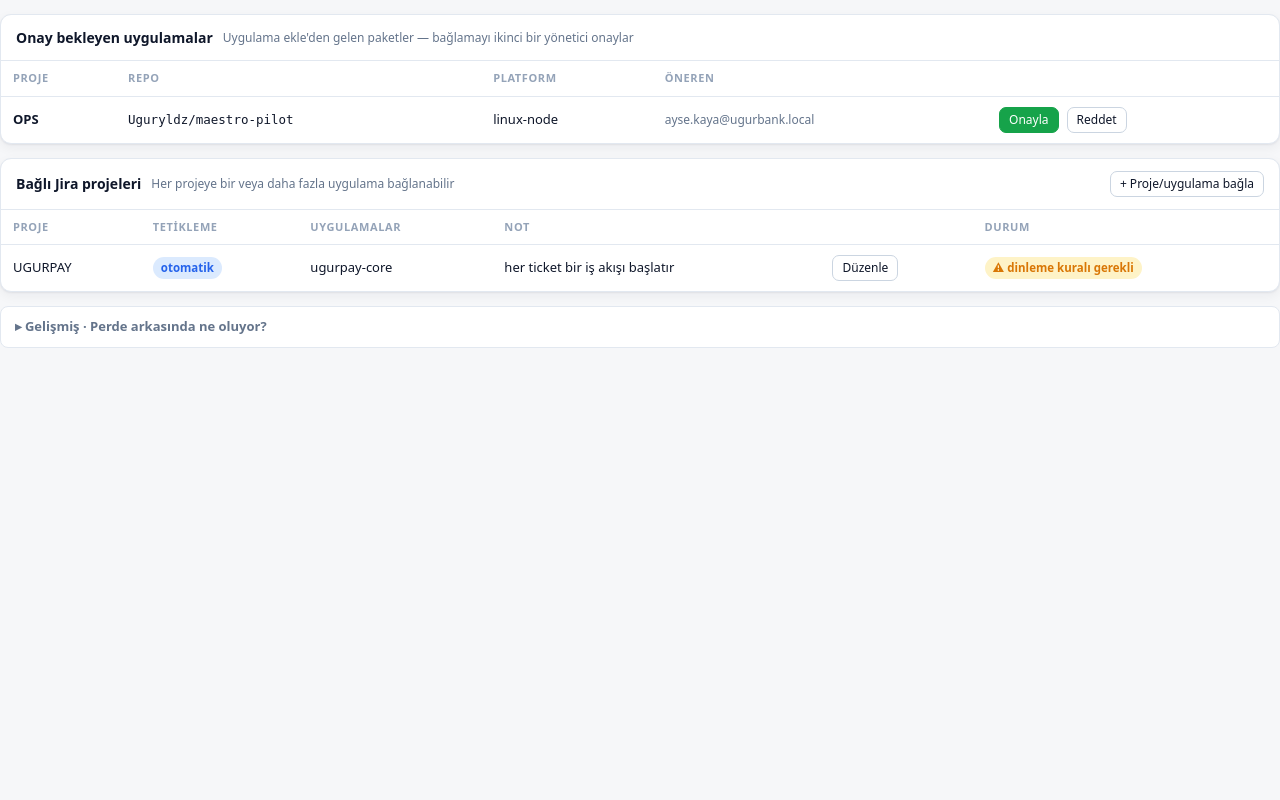
Test case: routing screen › shows a submitted onboarding package and approves it into a binding
expect the text "Uguryldz/maestro-pilot" is shown: met, box top-left (128, 112), bottom-right (294, 127)
expect the text "ayse.kaya@ugurbank.local" is shown: met, box top-left (665, 111), bottom-right (814, 128)
Click the button "Onayla": (1029, 120) top-left (999, 106), bottom-right (1059, 132)
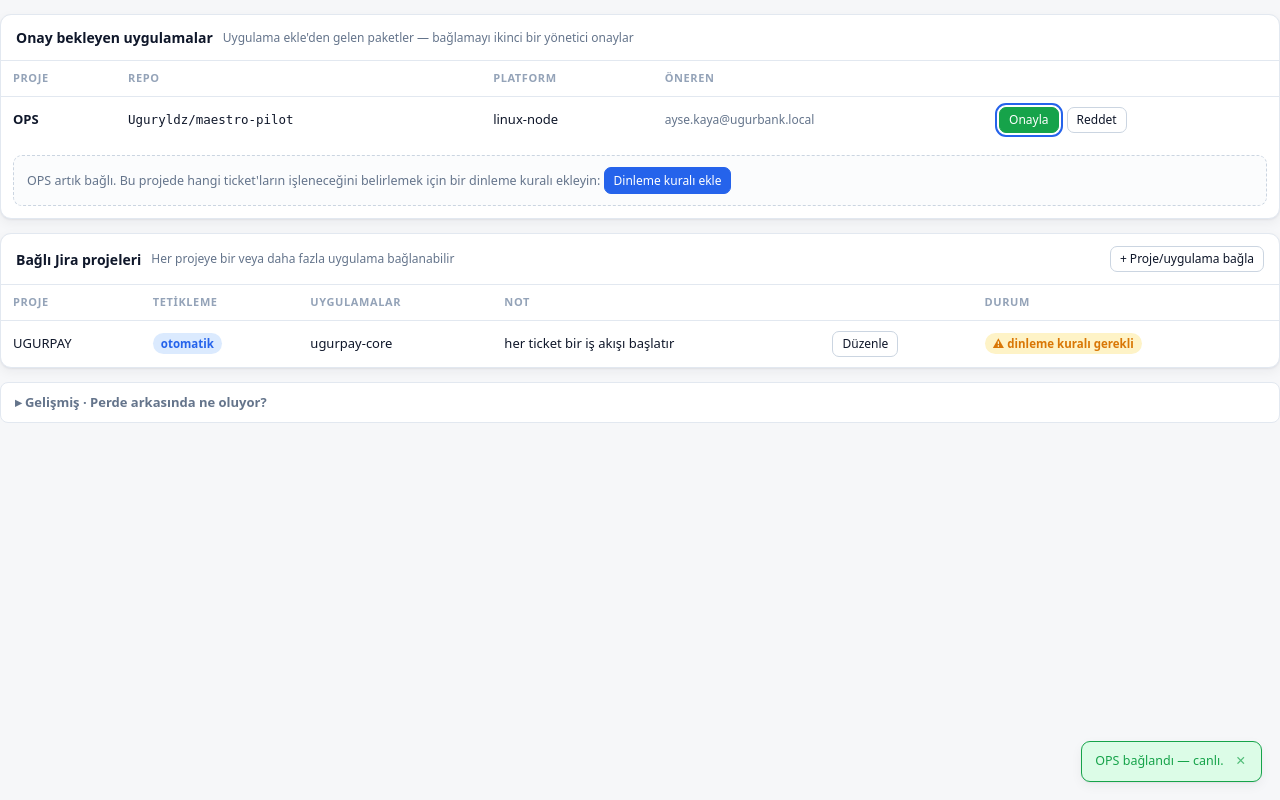
expect the text "OPS" is shown: met, box top-left (13, 110), bottom-right (39, 128)
expect the button "Dinleme kuralı ekle" is shown: met, box top-left (604, 166), bottom-right (732, 194)
